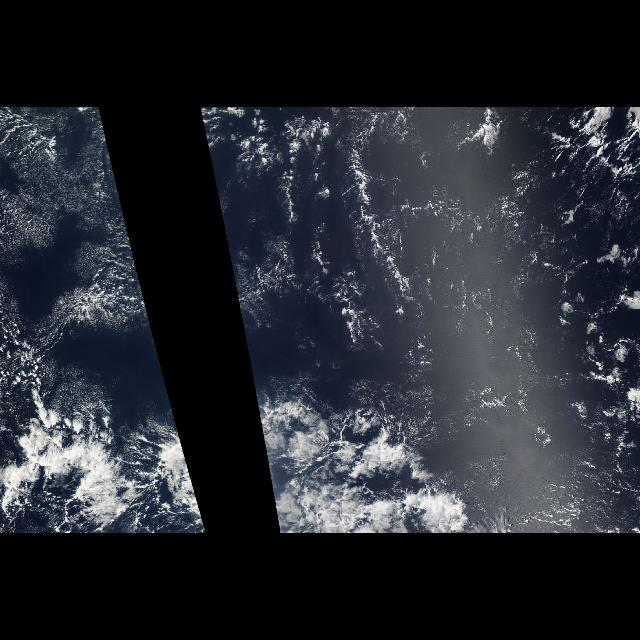Fish: (283, 108, 441, 352), (251, 373, 474, 533), (1, 373, 207, 533)
Gravel: (230, 112, 638, 358)
Sugar: (1, 109, 155, 409), (200, 110, 284, 338)
